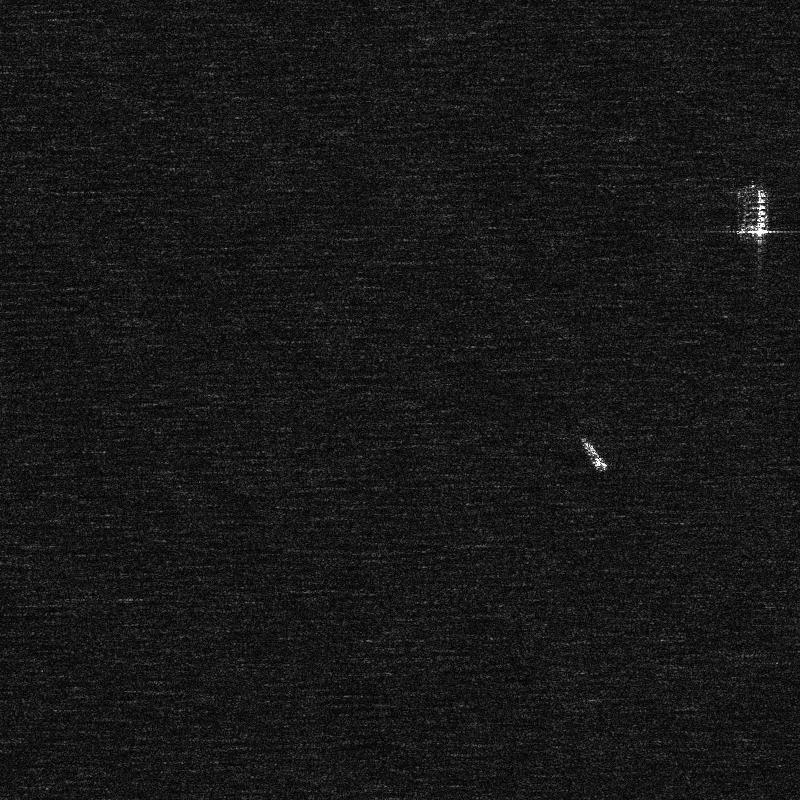ship: (742, 183, 767, 237), (581, 438, 606, 470)
